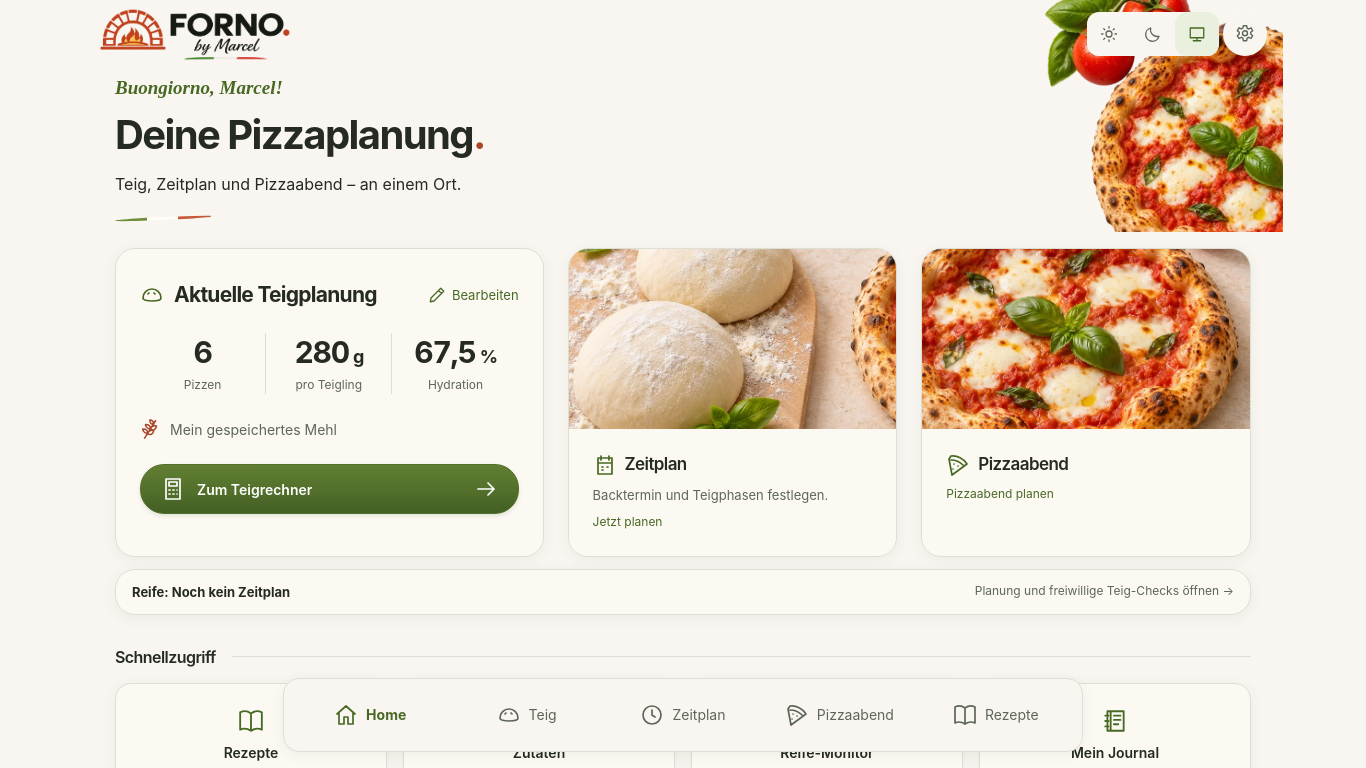
FORNO. cinematic navigation and preserved features › keeps editing, comma decimals, ingredient calculation and invalid-input protection working
Click the link "Bearbeiten": (473, 295) [428,286,519,304]
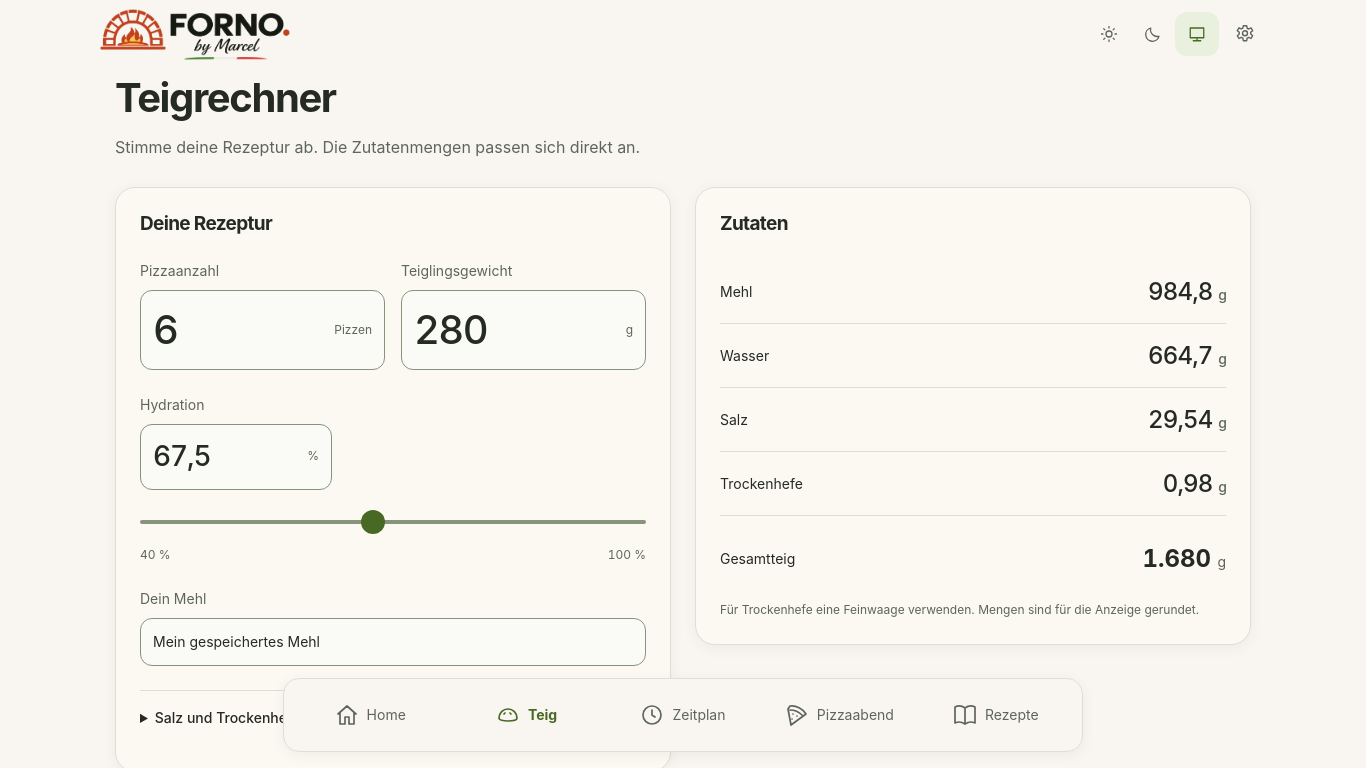
Replace the text in the field labelled "Pizzaanzahl Pizzen" with "9": (240, 330) [153,299,326,361]
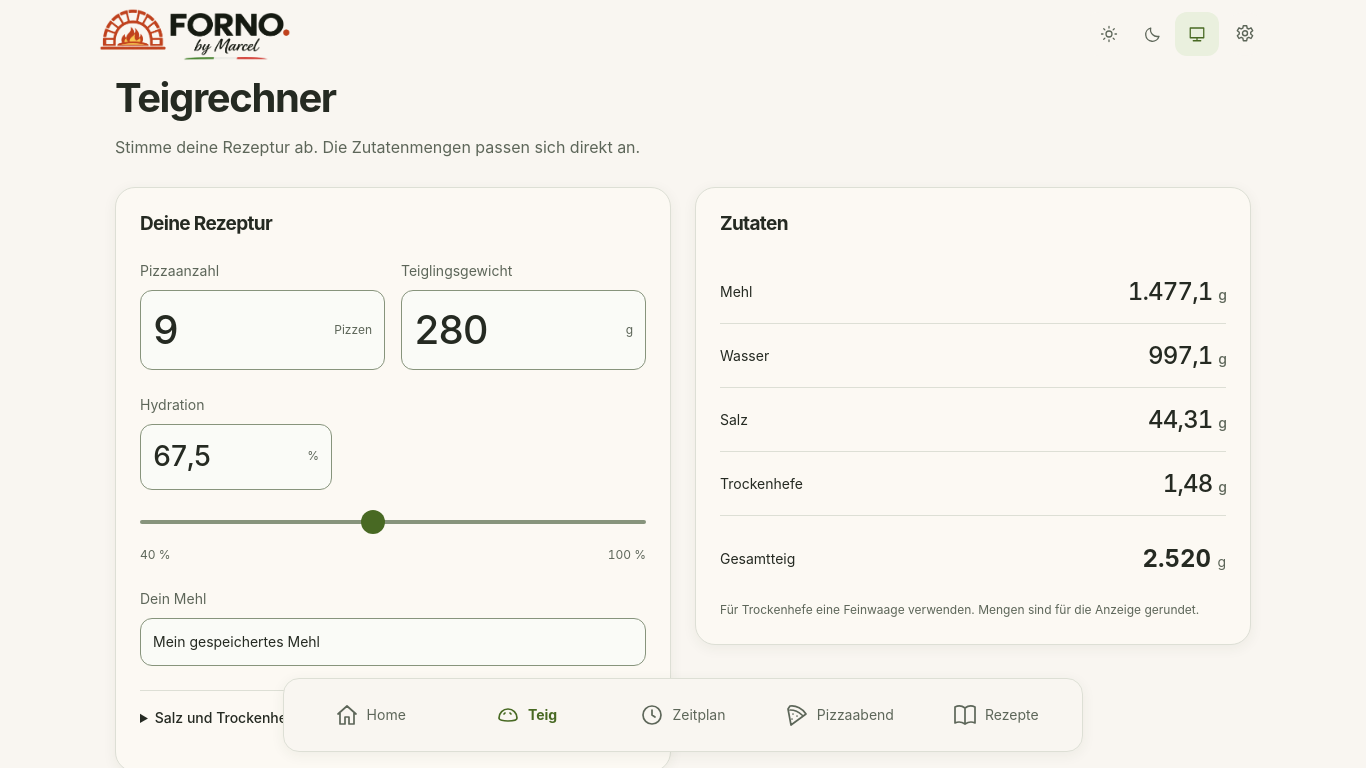
Replace the text in the field labelled "Hydration %" with "68,5": (226, 456) [153,432,299,480]
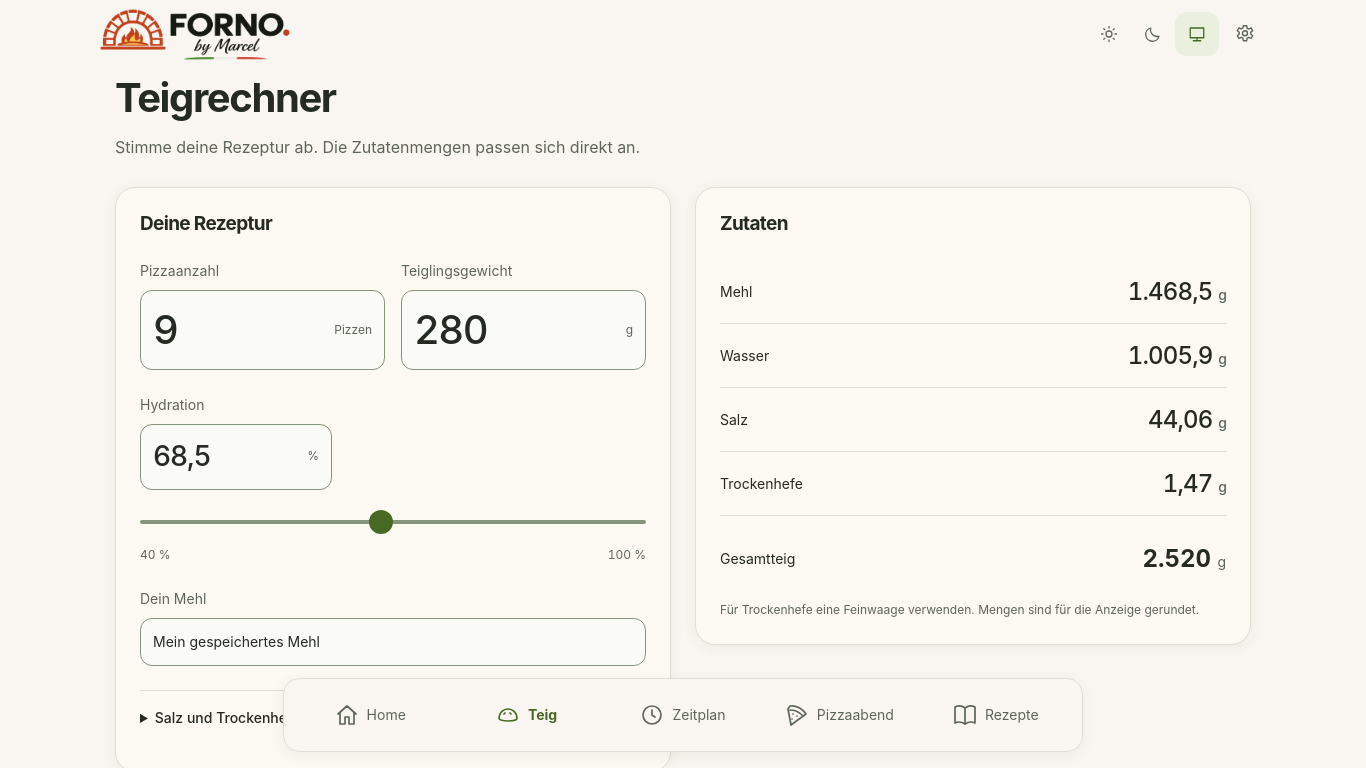
Clear the field labelled "Pizzaanzahl Pizzen": (240, 330) [153,299,326,361]
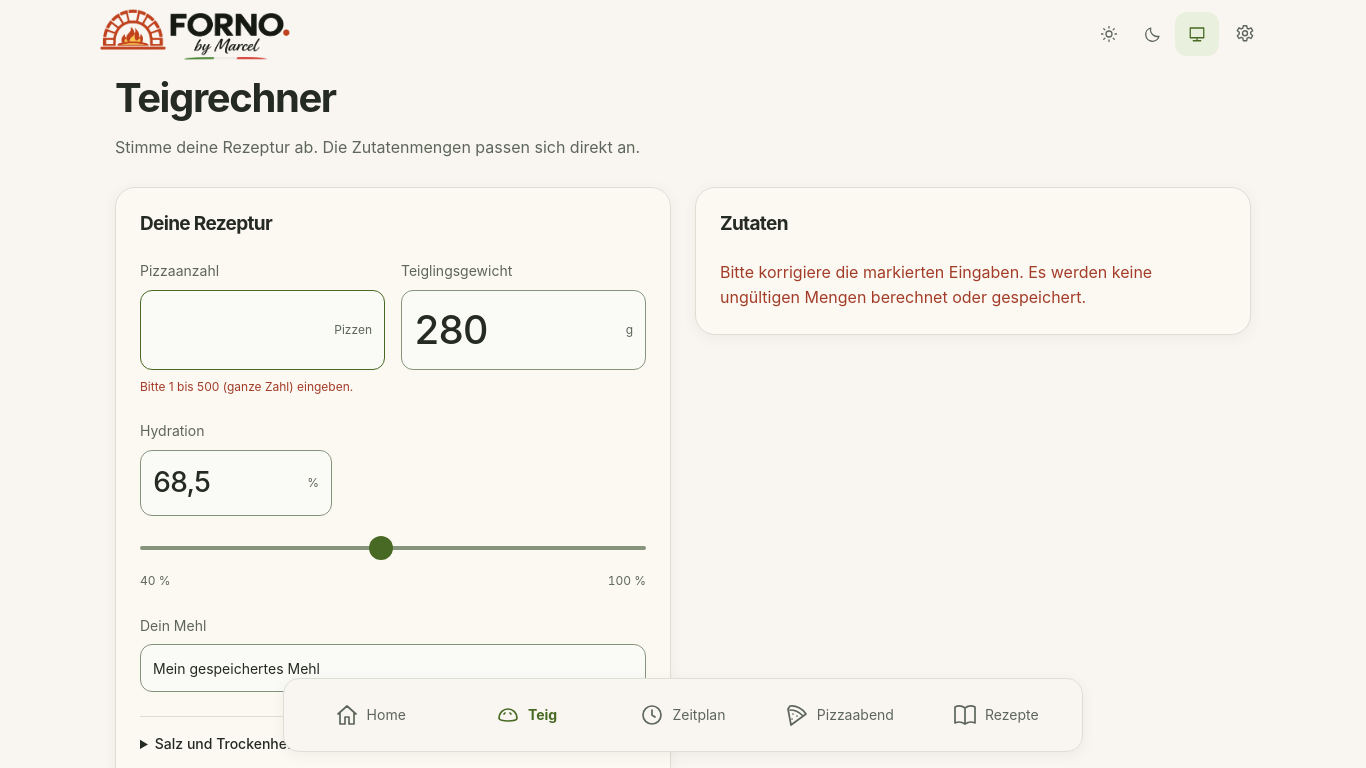
expect the text "Es werden keine ungültigen Mengen berechnet" is shown: met, box [720,262,1152,307]
